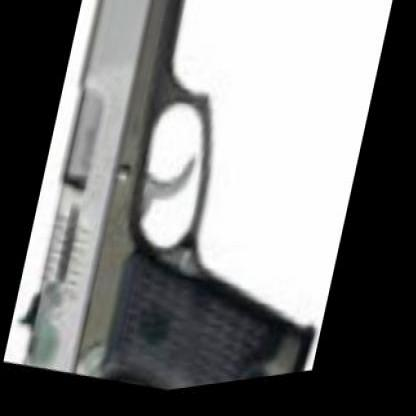pistol: (5, 0, 384, 412)
